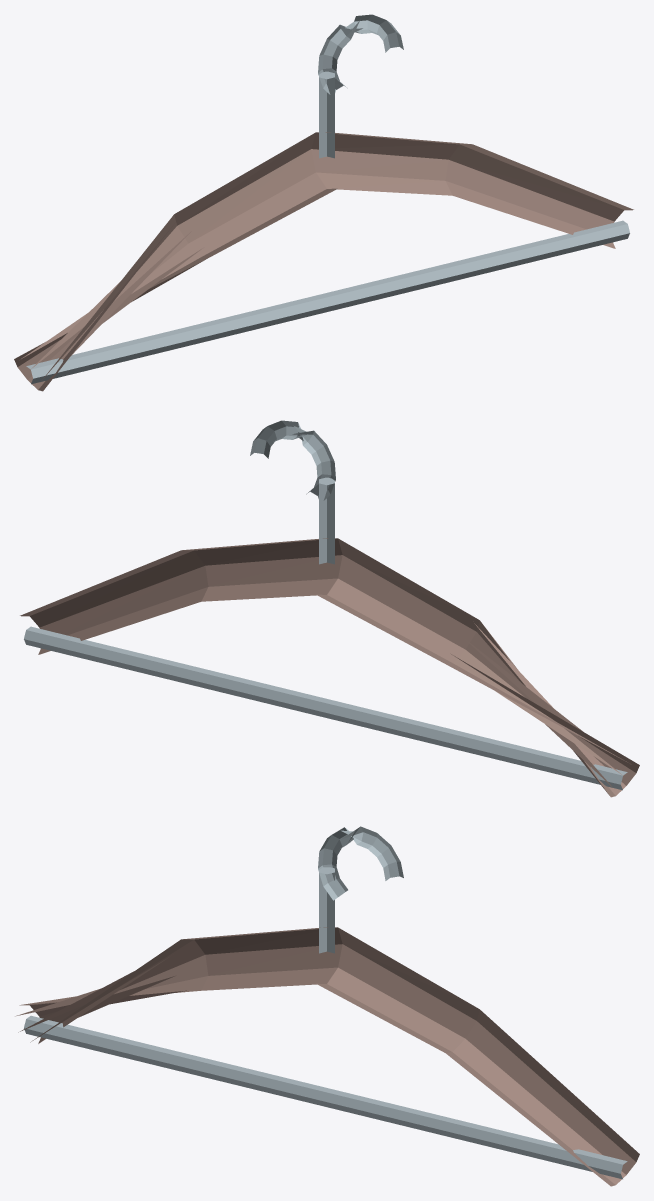
The model's file is galge.glb.
The picture shows the model from 3 angles, top to bottom: view 1: azimuth 30°, elevation 25°; view 2: azimuth 150°, elevation 25°; view 3: azimuth 330°, elevation 25°; orthographic projection.
Visible parts, largest first — view 1: galge; view 2: galge; view 3: galge.
Boxes of the visible parts, bbox=[...] form: galge: bbox=[14, 14, 633, 391]; galge: bbox=[20, 420, 639, 797]; galge: bbox=[15, 826, 639, 1186].
Bounding box in the file's own units: 0.4541 × 0.2072 × 0.04.
